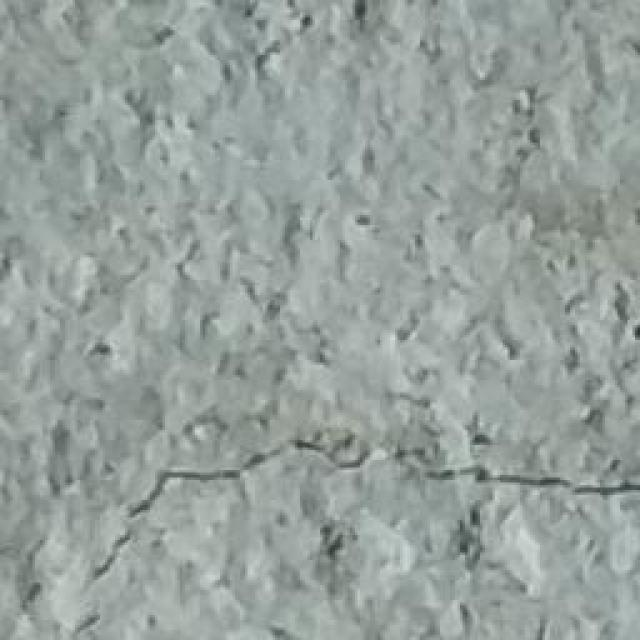Transverse: (45, 392, 640, 638)
